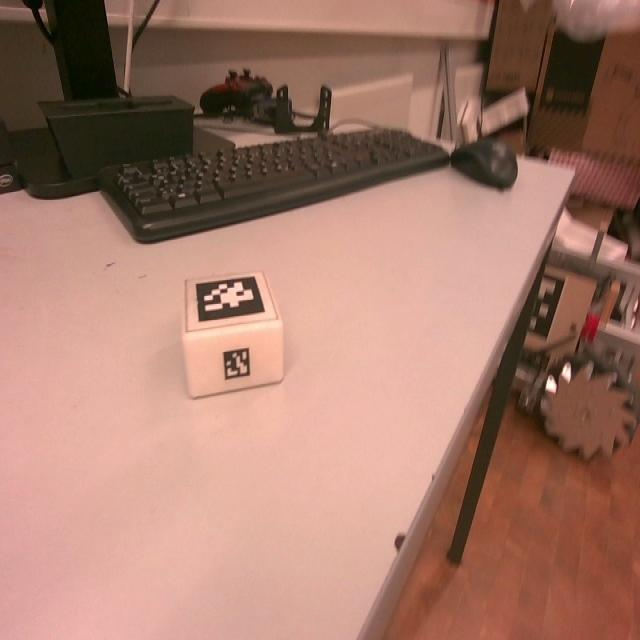Cube: (180, 270, 284, 398)
